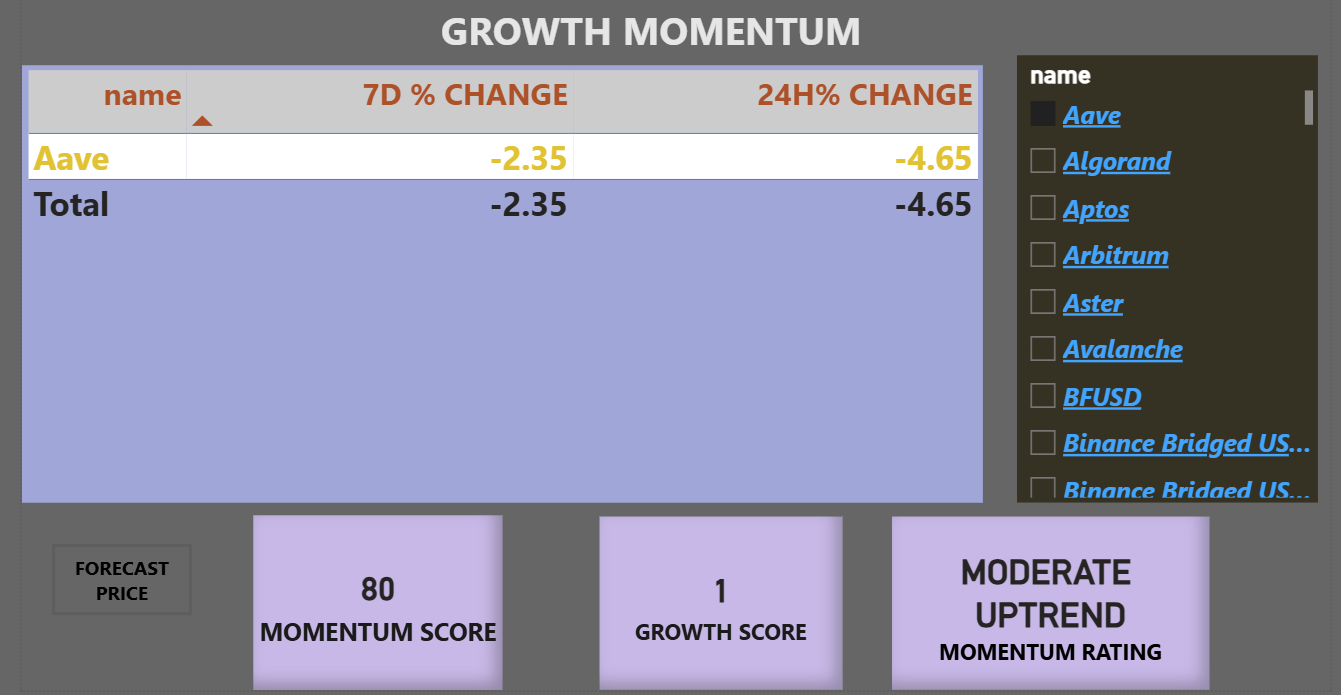

Layout of this report page (visuals, bound fields, positions):
{"tool":"powerbi","page":{"name":"GROWTH MOMENTUM","canvas":[1280,720],"ordinal":12},"visuals":[{"type":"textbox","box":[290.5,14.8,682,65.2],"z":0},{"type":"tableEx","fields":{"Values":["CRYPTO.name","Sum(CRYPTO.price_change_percentage_7d_in_currency)","Sum(CRYPTO.price_change_percentage_24h_in_currency)"]},"box":[12,99.6,940.3,427.6],"z":1000},{"type":"slicer","fields":{"Values":["CRYPTO.name"]},"box":[973.4,99,294.7,437.8],"z":2000},{"type":"card","fields":{"Values":["CRYPTO.MOMENTUM SCORE"]},"box":[225.8,548.5,244.4,171.3],"z":3000},{"type":"card","fields":{"Values":["CRYPTO.GROWTH SCORE"]},"box":[564.4,549.8,237.7,170],"z":4000},{"type":"card","fields":{"Values":["CRYPTO.MOMENTUM RATING"]},"box":[851.1,550.3,310.6,170],"z":5000},{"type":"actionButton","box":[29.3,577.2,137,69.7],"z":6000}]}

Visuals, with their boxes on the page's 1280x720 design canvas (x1, y1, x2, y2). These are canvas units, not pixel positions in the 1341x695 screenshot, which may show the page scaled, cropped or inside an application window:
textbox: x1=290, y1=15, x2=972, y2=80
tableEx - CRYPTO.name x Sum(CRYPTO.price_change_percentage_7d_in_currency): x1=12, y1=100, x2=952, y2=527
slicer - CRYPTO.name: x1=973, y1=99, x2=1268, y2=537
card - CRYPTO.MOMENTUM SCORE: x1=226, y1=548, x2=470, y2=720
card - CRYPTO.GROWTH SCORE: x1=564, y1=550, x2=802, y2=720
card - CRYPTO.MOMENTUM RATING: x1=851, y1=550, x2=1162, y2=720
actionButton: x1=29, y1=577, x2=166, y2=647
